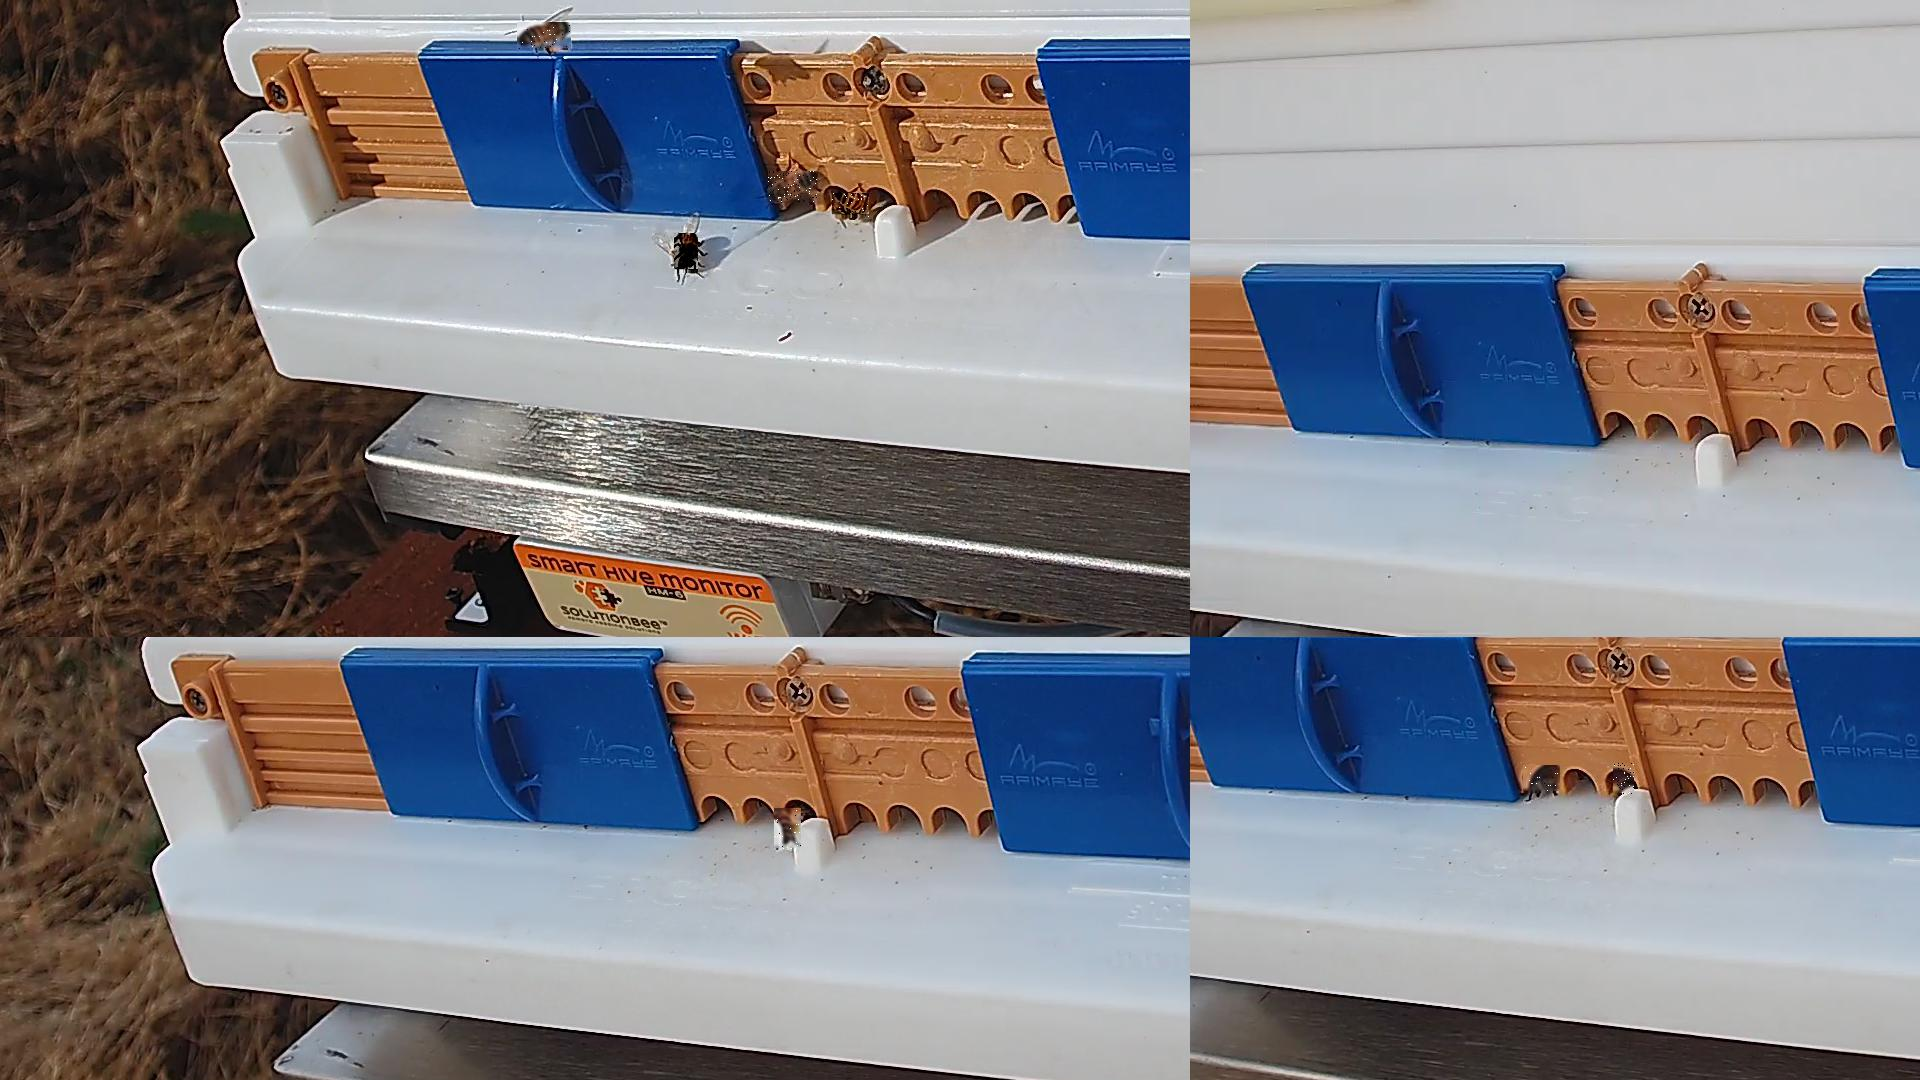bee: (769, 171, 819, 204), (517, 22, 572, 50), (1523, 766, 1561, 794), (674, 233, 699, 274), (832, 194, 870, 219)
pollenbee: (774, 808, 802, 851), (1613, 764, 1635, 796)
